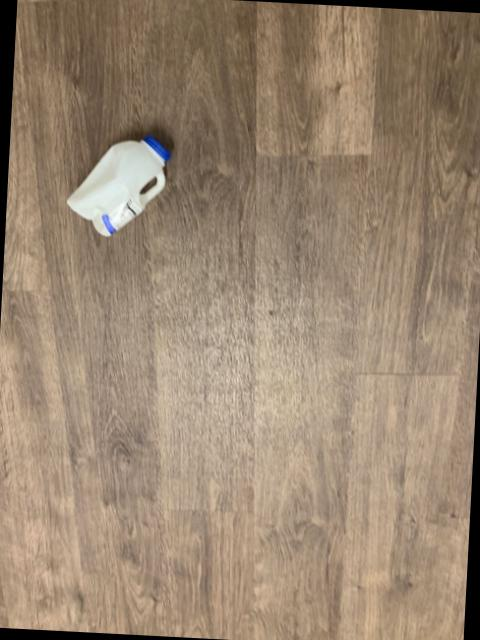plastic: (67, 136, 171, 237)
